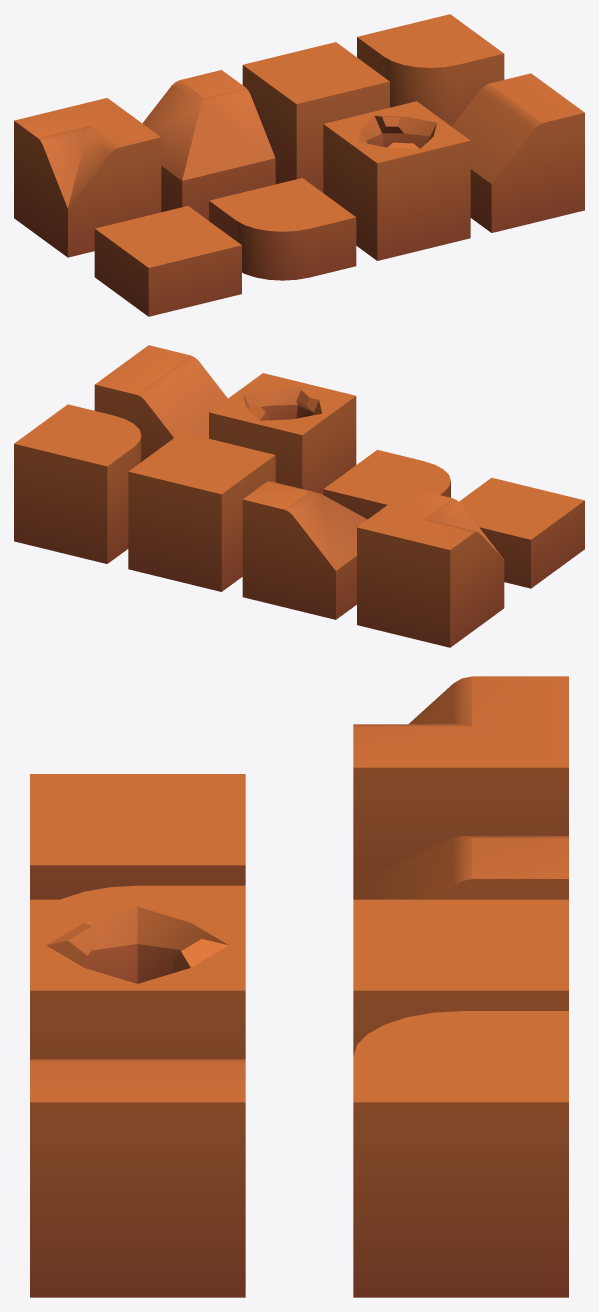
The model's file is Modular Rocks.glb.
3 views of the same model, one above another, from view 1: azimuth 30°, elevation 25°; view 2: azimuth 150°, elevation 25°; view 3: azimuth 270°, elevation 25° (orthographic). The views are drawn at different scales.
Visible parts, largest first — view 1: terrain_mining, terrain_slope_inner_corner, terrain_slope, terrain_slope_outer_corner, terrain_low, terrain_tall, terrain_low_curved, terrain_tall_curved; view 2: terrain_slope_inner_corner, terrain_tall, terrain_tall_curved, terrain_slope_outer_corner, terrain_mining, terrain_slope, terrain_low, terrain_low_curved; view 3: terrain_tall_curved, terrain_slope, terrain_mining, terrain_slope_inner_corner, terrain_tall, terrain_low, terrain_slope_outer_corner, terrain_low_curved.
Part boxes in pixels (x1,y1,x2,y2): terrain_mining: [323, 101, 470, 260]; terrain_slope_inner_corner: [14, 98, 161, 257]; terrain_slope: [452, 73, 584, 232]; terrain_slope_outer_corner: [142, 70, 275, 220]; terrain_low: [94, 206, 241, 316]; terrain_tall: [242, 42, 389, 192]; terrain_low_curved: [209, 178, 356, 280]; terrain_tall_curved: [357, 14, 504, 126]; terrain_slope_inner_corner: [357, 488, 504, 647]; terrain_tall: [128, 432, 275, 591]; terrain_tall_curved: [14, 404, 141, 563]; terrain_slope_outer_corner: [242, 481, 367, 619]; terrain_mining: [209, 373, 356, 494]; terrain_slope: [94, 345, 227, 461]; terrain_low: [459, 477, 584, 588]; terrain_low_curved: [323, 450, 450, 519]; terrain_tall_curved: [353, 1011, 568, 1297]; terrain_slope: [30, 1059, 245, 1297]; terrain_mining: [30, 899, 245, 1058]; terrain_slope_inner_corner: [353, 676, 568, 885]; terrain_tall: [353, 899, 568, 1055]; terrain_low: [30, 774, 245, 899]; terrain_slope_outer_corner: [353, 836, 568, 899]; terrain_low_curved: [61, 885, 245, 899].
Bounding box in the file's own units: 9.35 × 2.07 × 5.
Materials: 1 (1 with a texture image).
